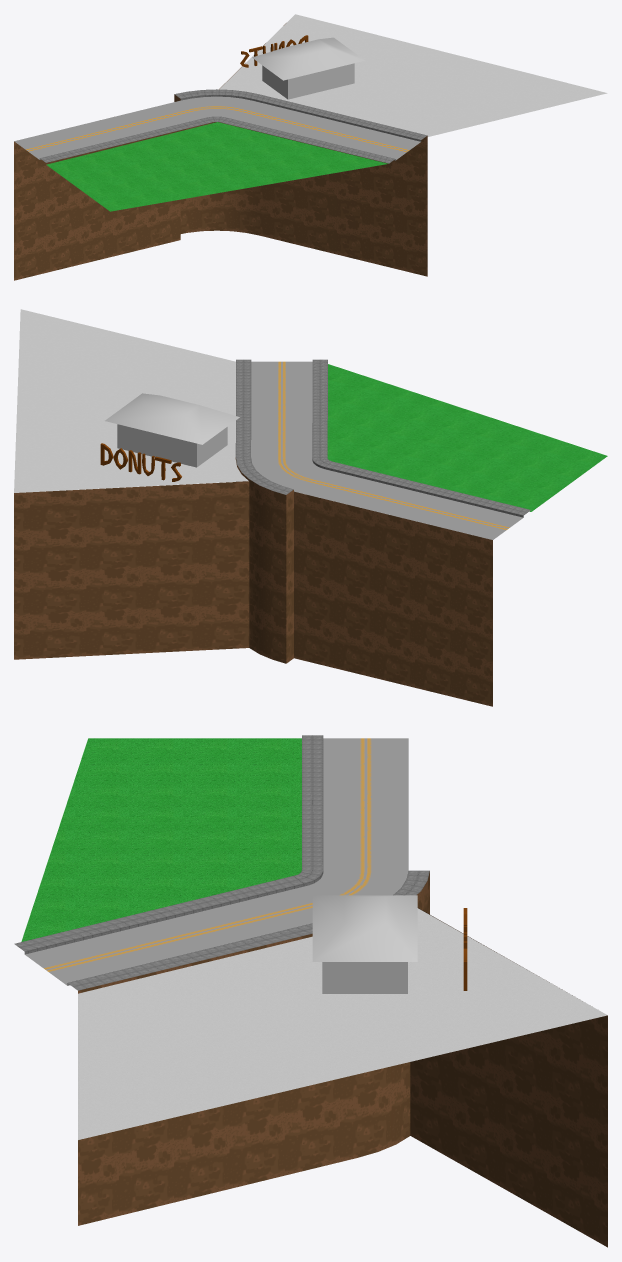
The model's file is Terrain_00_start.FBX.
The picture shows the model from 3 angles, top to bottom: view 1: azimuth 30°, elevation 25°; view 2: azimuth 150°, elevation 25°; view 3: azimuth 270°, elevation 25°; orthographic projection. The views are drawn at different scales.
Visible parts, largest first — view 1: Terrain_start_ground, Terrain_start_concrete, Terrain_start_grass, Terrain_start, Candy_shop; view 2: Terrain_start_ground, Terrain_start_concrete, Terrain_start_grass, Terrain_start, Candy_shop; view 3: Terrain_start_ground, Terrain_start_concrete, Terrain_start_grass, Terrain_start, Candy_shop.
Boxes of the visible parts, left/top/right/bottom form: Terrain_start_ground: left=14, top=23, right=427, bottom=280; Terrain_start_concrete: left=219, top=14, right=607, bottom=136; Terrain_start_grass: left=46, top=122, right=388, bottom=211; Terrain_start: left=14, top=89, right=427, bottom=163; Candy_shop: left=252, top=37, right=364, bottom=99; Terrain_start_ground: left=14, top=457, right=492, bottom=706; Terrain_start_concrete: left=14, top=309, right=248, bottom=492; Terrain_start_grass: left=327, top=364, right=607, bottom=511; Terrain_start: left=235, top=359, right=530, bottom=539; Candy_shop: left=105, top=393, right=239, bottom=467; Terrain_start_ground: left=78, top=871, right=607, bottom=1247; Terrain_start_concrete: left=78, top=908, right=607, bottom=1139; Terrain_start_grass: left=21, top=738, right=301, bottom=941; Terrain_start: left=14, top=735, right=429, bottom=990; Candy_shop: left=312, top=895, right=417, bottom=993.
Bounding box in the file's own units: 445 × 149 × 278.
